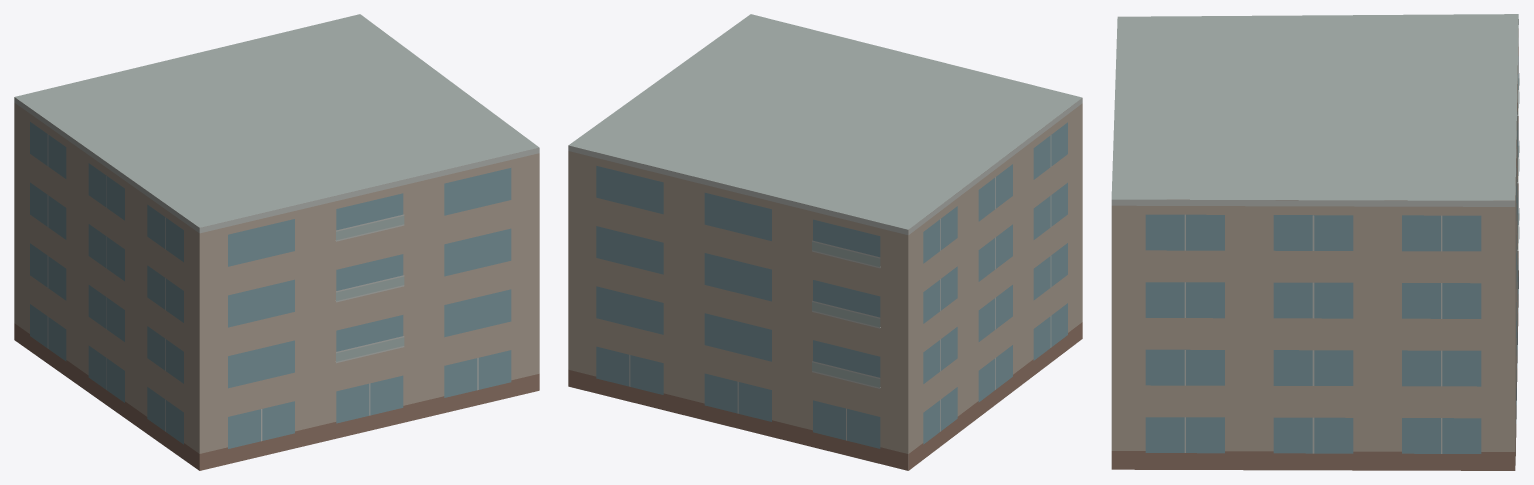
Rendered from survey-upis-32500752.glb.
3 renders of one model, left to right at view 1: azimuth 30°, elevation 25°; view 2: azimuth 150°, elevation 25°; view 3: azimuth 270°, elevation 25°, orthographic. The views are drawn at different scales.
Parts seen in each view (by area): view 1: survey-upis-32500752.tmp; view 2: survey-upis-32500752.tmp; view 3: survey-upis-32500752.tmp.
Boxes of the visible parts, bbox=[...] form: survey-upis-32500752.tmp: bbox=[14, 14, 539, 470]; survey-upis-32500752.tmp: bbox=[568, 14, 1082, 470]; survey-upis-32500752.tmp: bbox=[1111, 14, 1519, 470].
Bounding box in the file's own units: 15.79 × 10.64 × 14.57.
